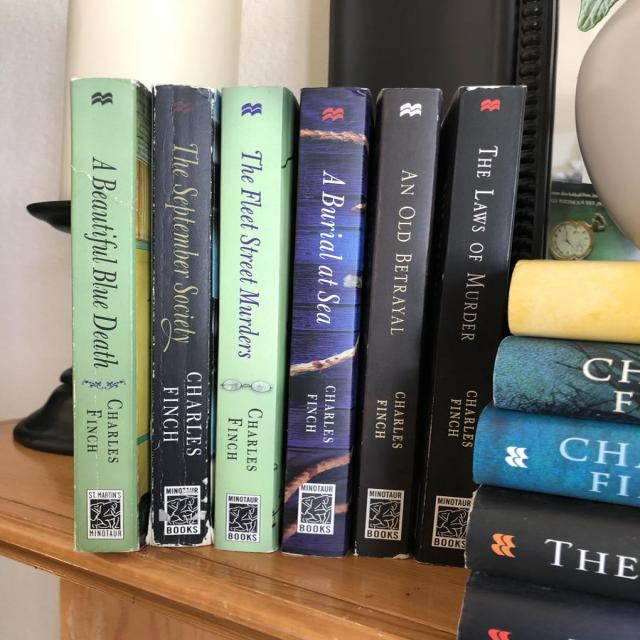Books: (415, 86, 525, 565), (282, 88, 370, 556), (355, 89, 440, 556), (213, 86, 297, 552), (72, 79, 152, 552), (148, 85, 220, 546), (465, 486, 640, 601), (473, 406, 640, 506), (493, 336, 640, 422), (508, 260, 640, 344)
